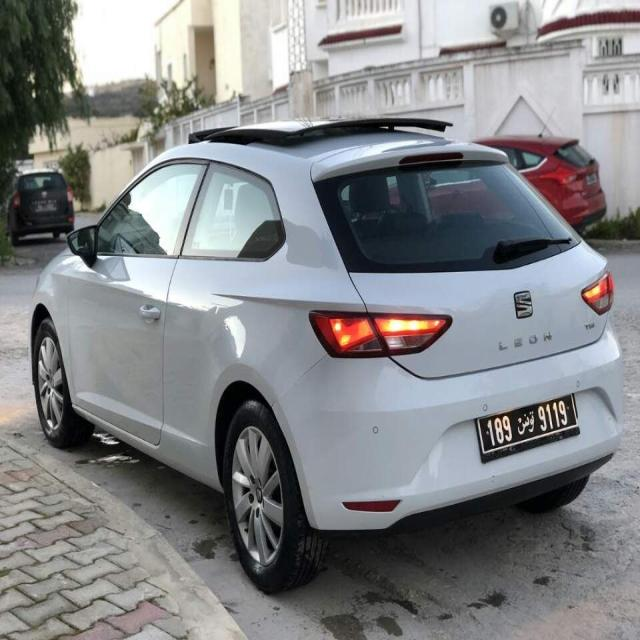LP: (475, 392, 578, 452)
